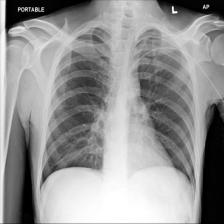normal: (36, 16, 199, 193)
